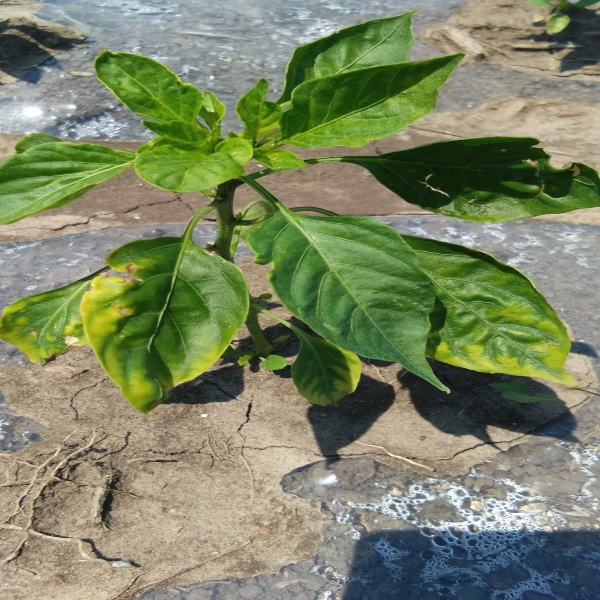Anthrax: (89, 259, 145, 318)
Improper medication: (426, 305, 576, 392), (74, 278, 155, 411), (1, 294, 74, 361), (293, 341, 360, 406), (160, 333, 231, 389)
